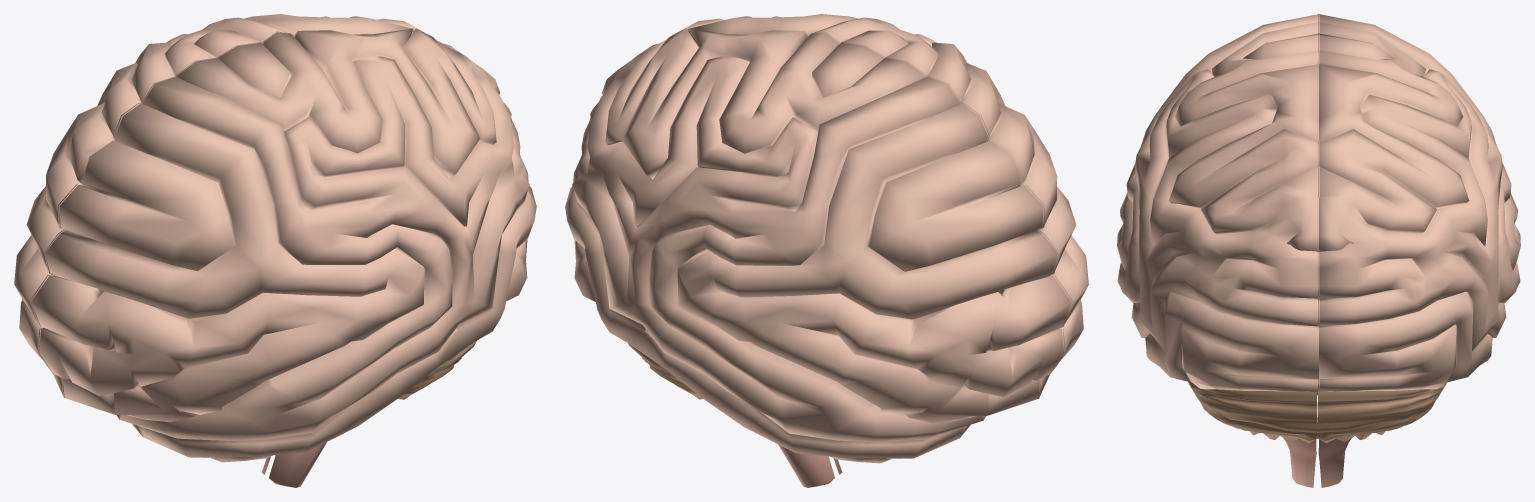
The model's file is brain1.gltf.
3 views of the same model, side by side, from view 1: azimuth 30°, elevation 25°; view 2: azimuth 150°, elevation 25°; view 3: azimuth 270°, elevation 25° (orthographic). The views are drawn at different scales.
Visible parts, largest first — view 1: occipital, occipital.001, occipital.003, occipital.002; view 2: occipital.001, occipital, occipital.004; view 3: occipital, occipital.001, occipital.002, occipital.005, occipital.003, occipital.004.
Part boxes in pixels (x1,y1,x2,y2): occipital: (29, 28, 536, 462); occipital.001: (14, 14, 468, 437); occipital.003: (269, 442, 326, 487); occipital.002: (398, 341, 476, 399); occipital.001: (565, 28, 1073, 463); occipital: (632, 14, 1088, 438); occipital.004: (778, 444, 834, 487); occipital: (1117, 14, 1319, 395); occipital.001: (1318, 14, 1520, 391); occipital.002: (1188, 382, 1317, 443); occipital.005: (1317, 382, 1446, 443); occipital.003: (1283, 438, 1316, 487); occipital.004: (1318, 438, 1351, 487).
Size of the model in its own units: 7.59 by 6.84 by 5.82.
